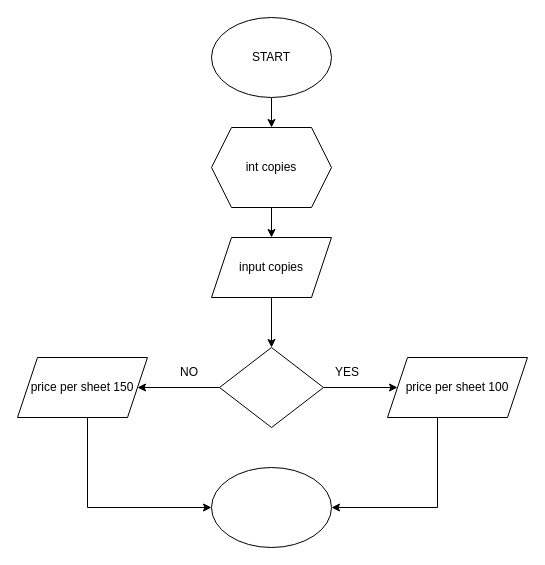
The diagram is 545 pixels wide and 565 high, and some of its shapes have lost their labels. The shapes that lost their labels are listed below. From the top down, each one's box as (x1, y1, x2, y2) in pixels, then its label:
(218, 346, 324, 428): if copies > 100
(210, 466, 332, 548): END
